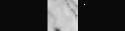good_void: (52, 25, 64, 31)
